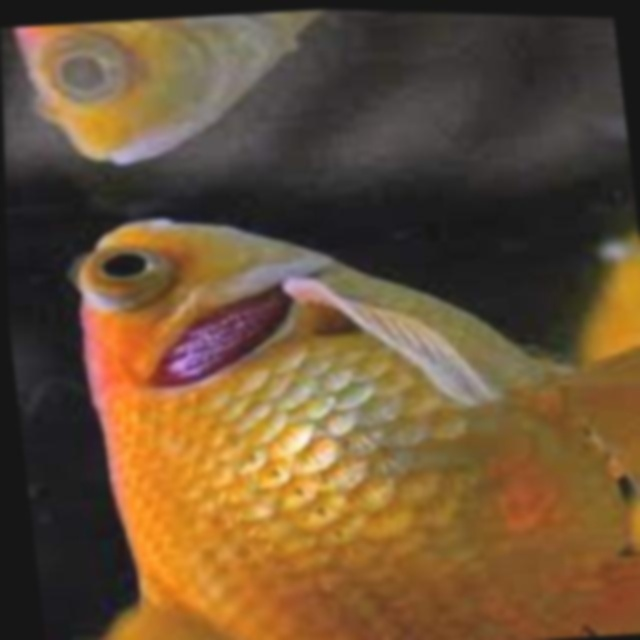Gill Disease: (38, 195, 534, 447)
